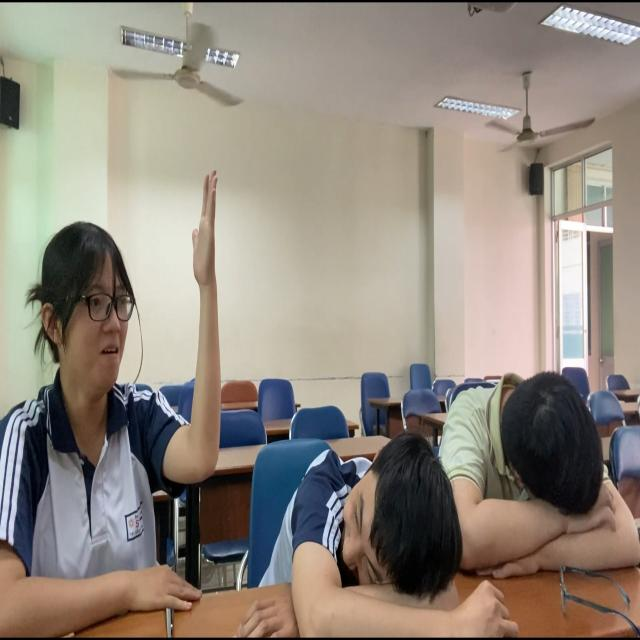raise_hand: (1, 166, 233, 640)
sleep: (441, 368, 640, 593), (262, 426, 461, 640)
